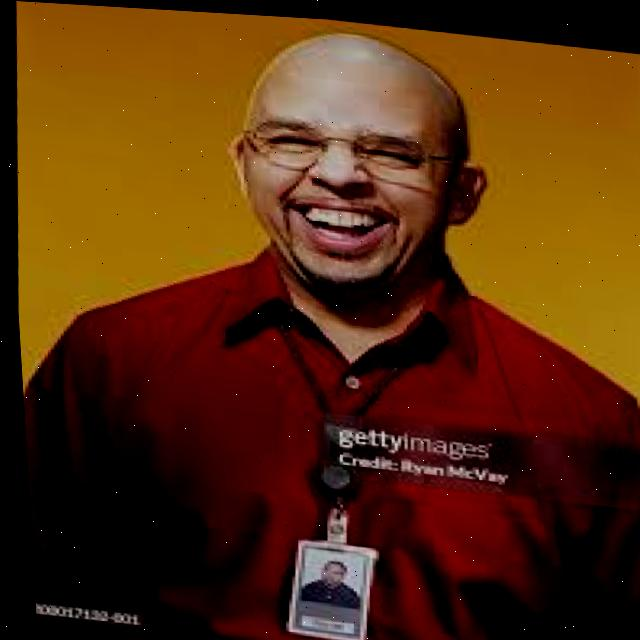id_card: (250, 328, 387, 640)
